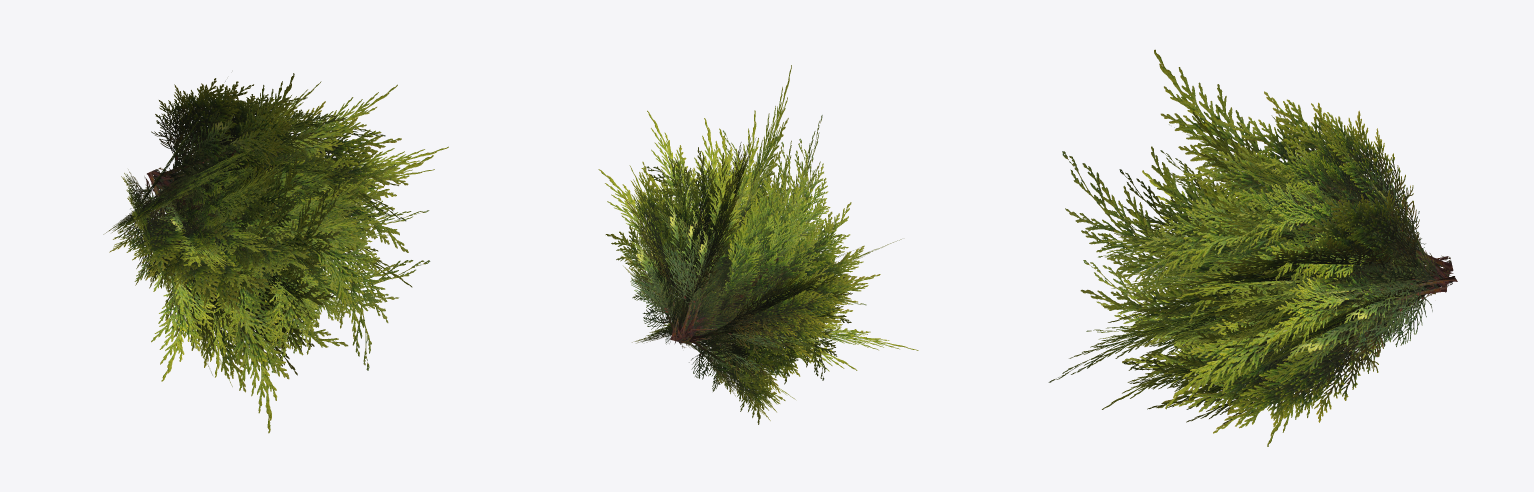
Rendered from Bush_Will.obj.
3 views of the same model, side by side, from view 1: azimuth 30°, elevation 25°; view 2: azimuth 150°, elevation 25°; view 3: azimuth 270°, elevation 25° (orthographic). The views are drawn at different scales.
Visible parts, largest first — view 1: Plane; view 2: Plane; view 3: Plane.
Boxes of the visible parts, x1,y1,x2,y2 form: Plane: (103, 73, 448, 433); Plane: (598, 65, 918, 424); Plane: (1048, 49, 1457, 446).
Size of the model in its own units: 123 by 130 by 132.
